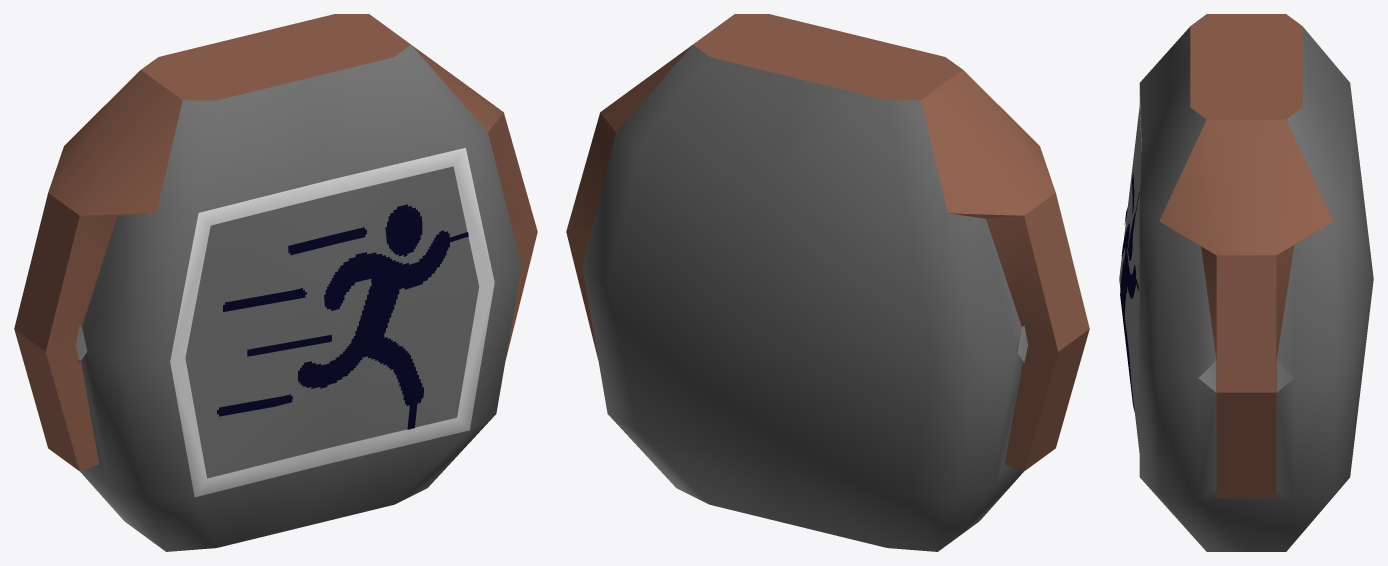
The model's file is SpeedRuin.fbx.
3 renders of one model, left to right at view 1: azimuth 30°, elevation 25°; view 2: azimuth 150°, elevation 25°; view 3: azimuth 270°, elevation 25°, orthographic. The views are drawn at different scales.
Visible parts, largest first — view 1: Cube; view 2: Cube; view 3: Cube.
Part boxes in pixels (x1,y1,x2,y2): Cube: (14,14,537,551); Cube: (566,14,1089,551); Cube: (1119,14,1373,551).
Bounding box in the file's own units: 115 × 100 × 54.54.
